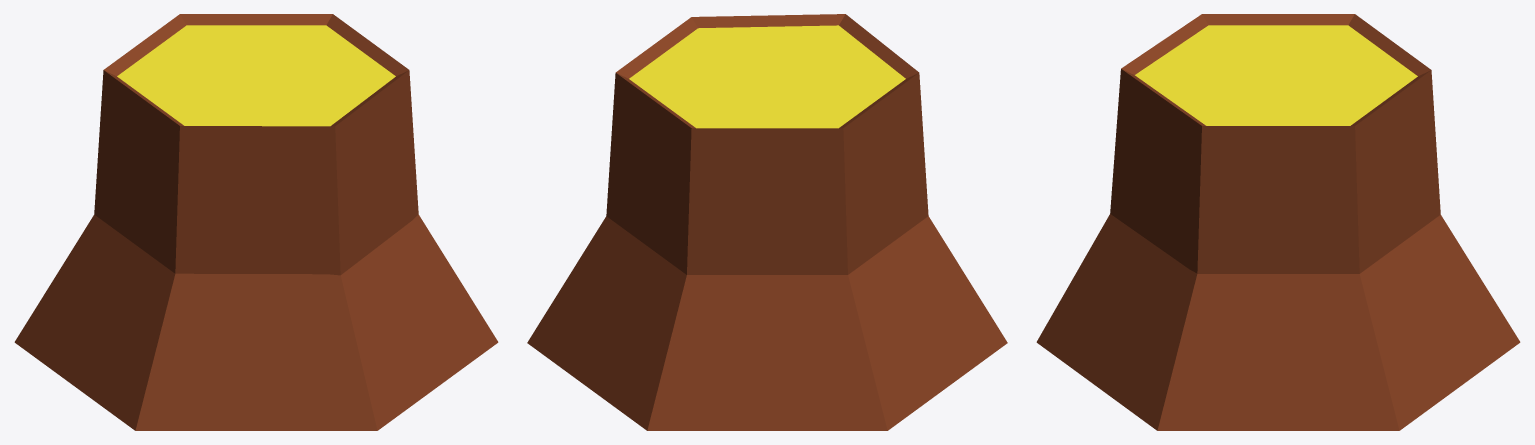
Rendered from arvore_cotoco.fbx.
The picture shows the model from 3 angles, left to right: view 1: azimuth 30°, elevation 25°; view 2: azimuth 150°, elevation 25°; view 3: azimuth 270°, elevation 25°; orthographic projection.
Visible parts, largest first — view 1: Cilindro; view 2: Cilindro; view 3: Cilindro.
Part boxes in pixels (x1,y1,x2,y2): Cilindro: [14, 14, 498, 430]; Cilindro: [527, 14, 1007, 430]; Cilindro: [1036, 14, 1520, 430].
Size of the model in its own units: 283 by 204 by 327.
